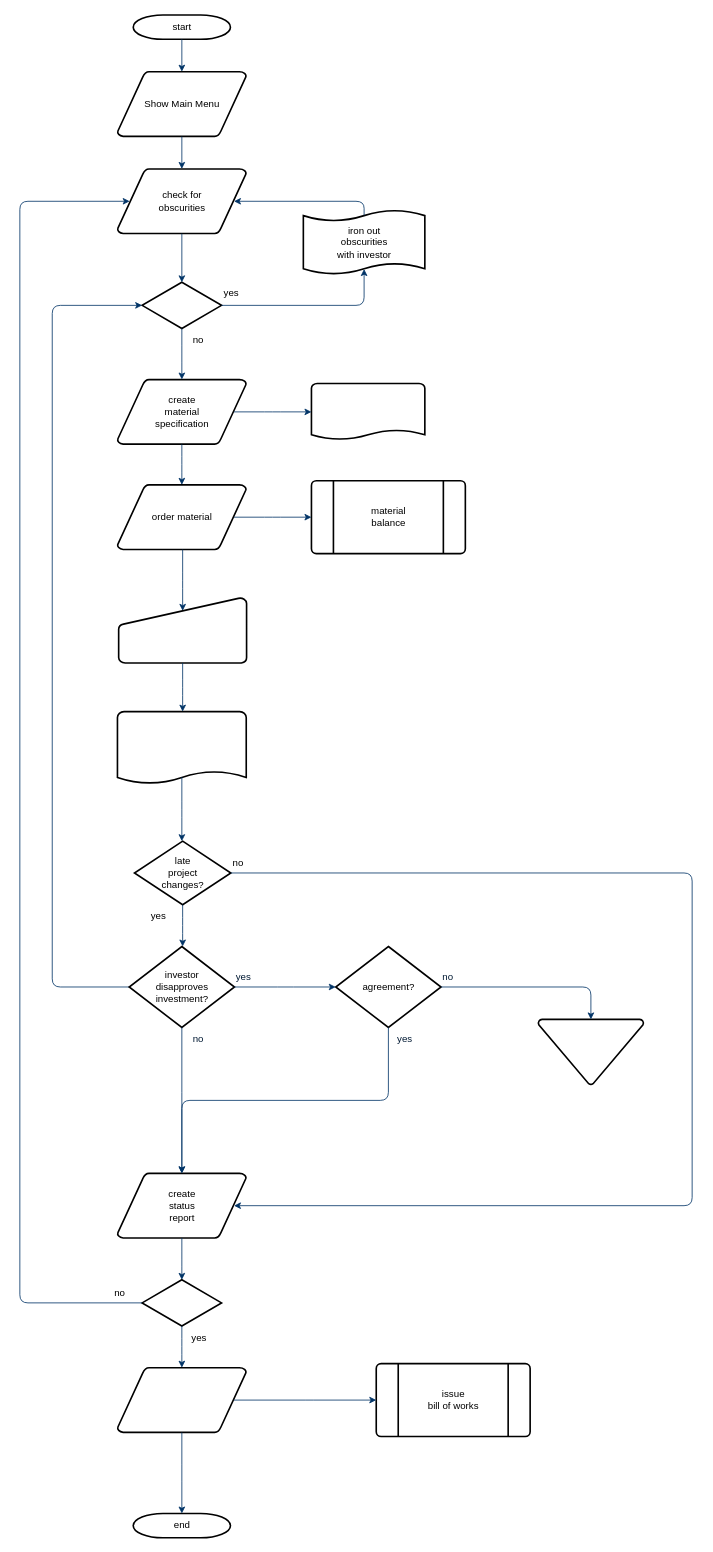
Some shapes in this 713 by 1552 pixel diagram are drawn without their labels. The shapes that lost their labels are listed below. From the top down, each one's centre as x and y in pixels, then its label:
pixel 181 305: obscurities?
pixel 367 411: final project
pixel 182 630: organize workforce
pixel 181 747: create Gantt diagram
pixel 590 1051: terminate contract
pixel 181 1302: project complete?
pixel 181 1399: create final report
